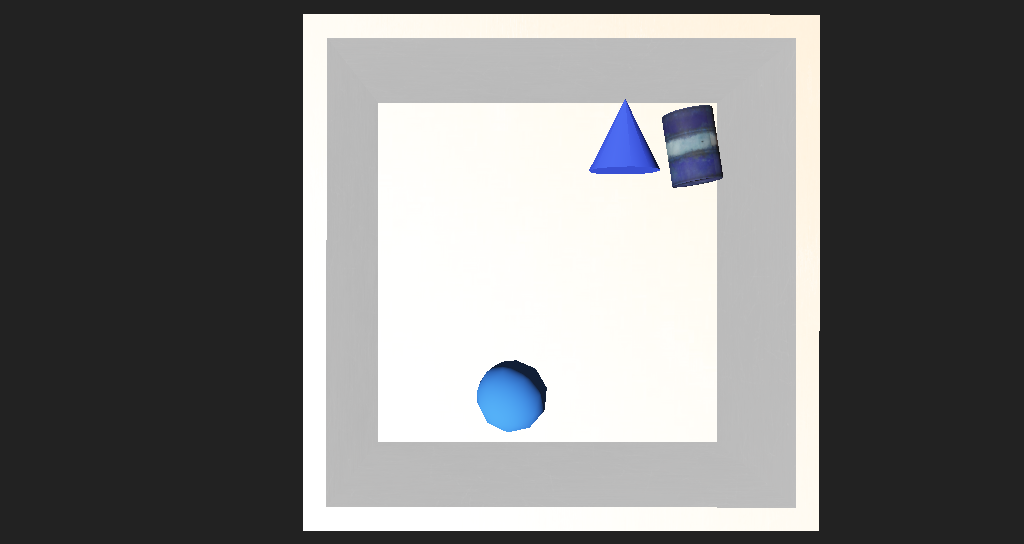cone: (600, 165, 667, 217)
cylinder: (539, 153, 606, 210)
sphere: (438, 327, 505, 370)
